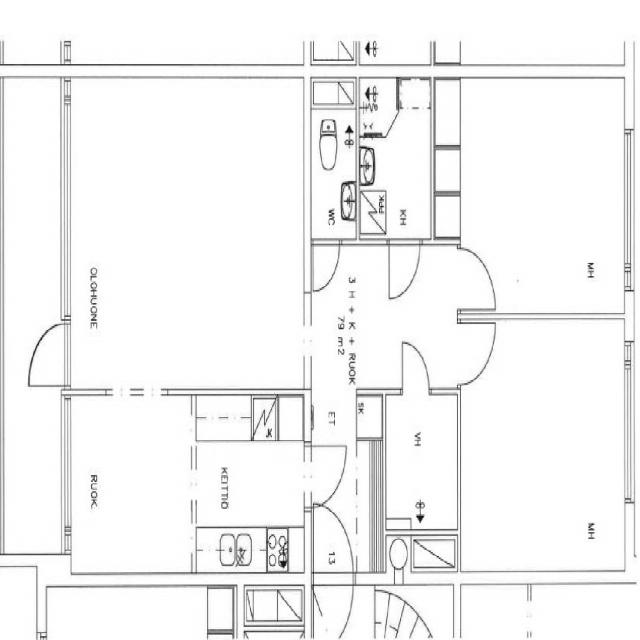door: (313, 505, 353, 587), (26, 325, 70, 386), (313, 573, 352, 640), (304, 446, 346, 506), (457, 322, 495, 384), (457, 248, 495, 309), (389, 238, 419, 298), (402, 342, 429, 395), (313, 239, 339, 292)
